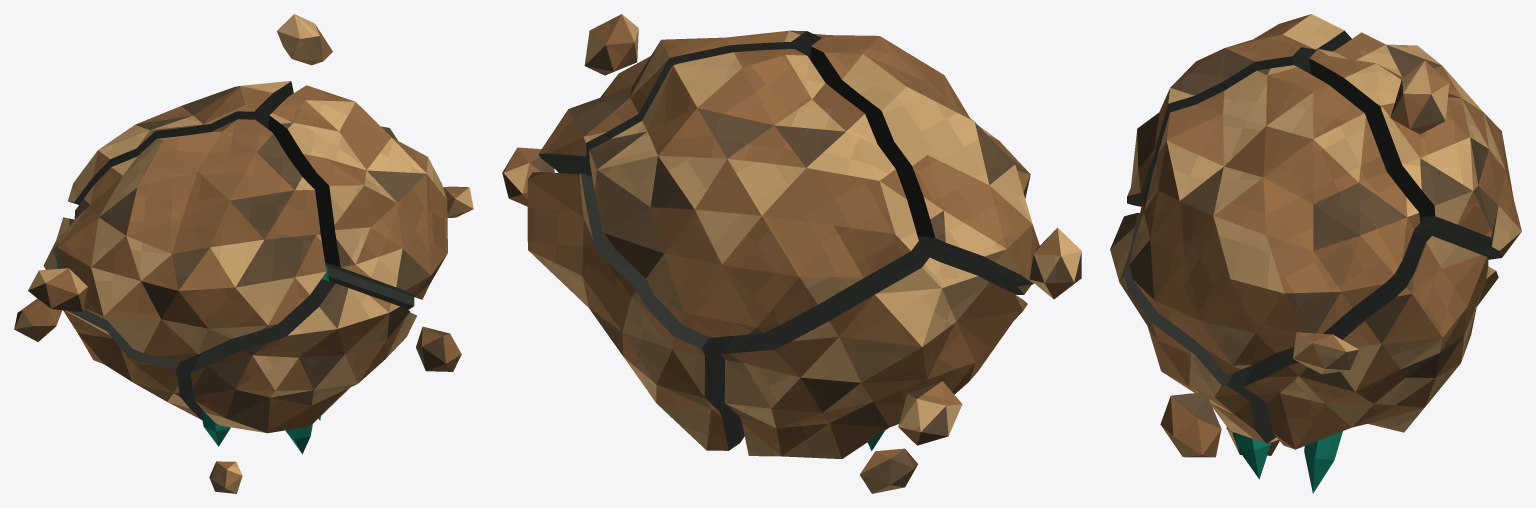
File: floating_rock.obj
3 views of the same model, side by side, from view 1: azimuth 30°, elevation 25°; view 2: azimuth 150°, elevation 25°; view 3: azimuth 270°, elevation 25° (orthographic). The views are drawn at different scales.
Parts seen in each view (by area): view 1: RockChunk1, RockChunk2, RockChunk6, RockChunk3, RockChunk4, FloatingFragment1, FloatingFragment6, FloatingFragment4, FloatingFragment3, RockChunk5, FloatingFragment5, FloatingFragment2; view 2: RockChunk3, RockChunk4, RockChunk1, RockChunk5, RockChunk2, FloatingFragment3, FloatingFragment1, FloatingFragment6, FloatingFragment5, FloatingFragment2; view 3: RockChunk2, RockChunk5, RockChunk3, RockChunk1, RockChunk6, FloatingFragment4, FloatingFragment6, FloatingFragment2, Crystal3, Crystal2.
Part boxes in pixels (x1,y1,x2,y2): RockChunk1: (57,119,326,361); RockChunk2: (268,85,447,299); RockChunk6: (190,279,416,433); RockChunk3: (68,81,293,204); RockChunk4: (43,217,203,420); FloatingFragment1: (28,268,87,312); FloatingFragment6: (277,14,332,65); FloatingFragment4: (416,326,461,371); FloatingFragment3: (14,298,62,341); RockChunk5: (328,267,414,309); FloatingFragment5: (209,461,242,493); FloatingFragment2: (443,186,473,217); RockChunk3: (589,49,918,337); RockChunk4: (721,254,1027,458); RockChunk1: (810,35,1039,294); RockChunk5: (527,172,744,450); RockChunk2: (538,30,826,176); FloatingFragment3: (898,381,962,445); FloatingFragment1: (1029,227,1081,299); FloatingFragment6: (584,14,638,75); FloatingFragment5: (859,448,917,493); FloatingFragment2: (502,147,554,206); RockChunk2: (1129,65,1419,374); RockChunk5: (1243,236,1498,449); RockChunk3: (1309,32,1521,259); RockChunk1: (1127,14,1351,206); RockChunk6: (1110,212,1276,443); FloatingFragment4: (1160,392,1221,457); FloatingFragment6: (1390,60,1449,134); FloatingFragment2: (1293,332,1358,374); Crystal3: (1304,431,1342,493); Crystal2: (1233,432,1270,479).
Bounding box in the file's own units: 1 × 0.8377 × 0.6594.
Materials: 6 (6 with a texture image).
